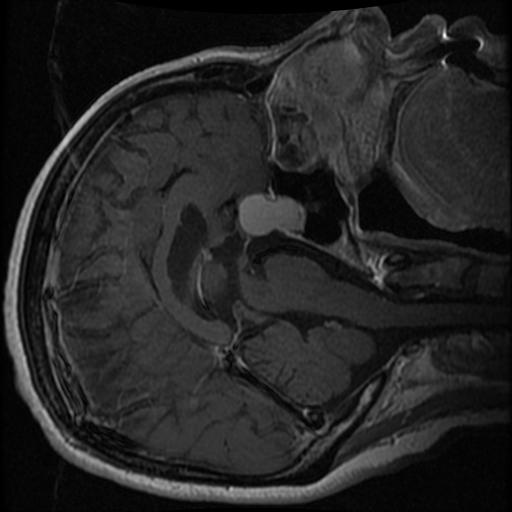pituitary tumour: (239, 192, 305, 234)
